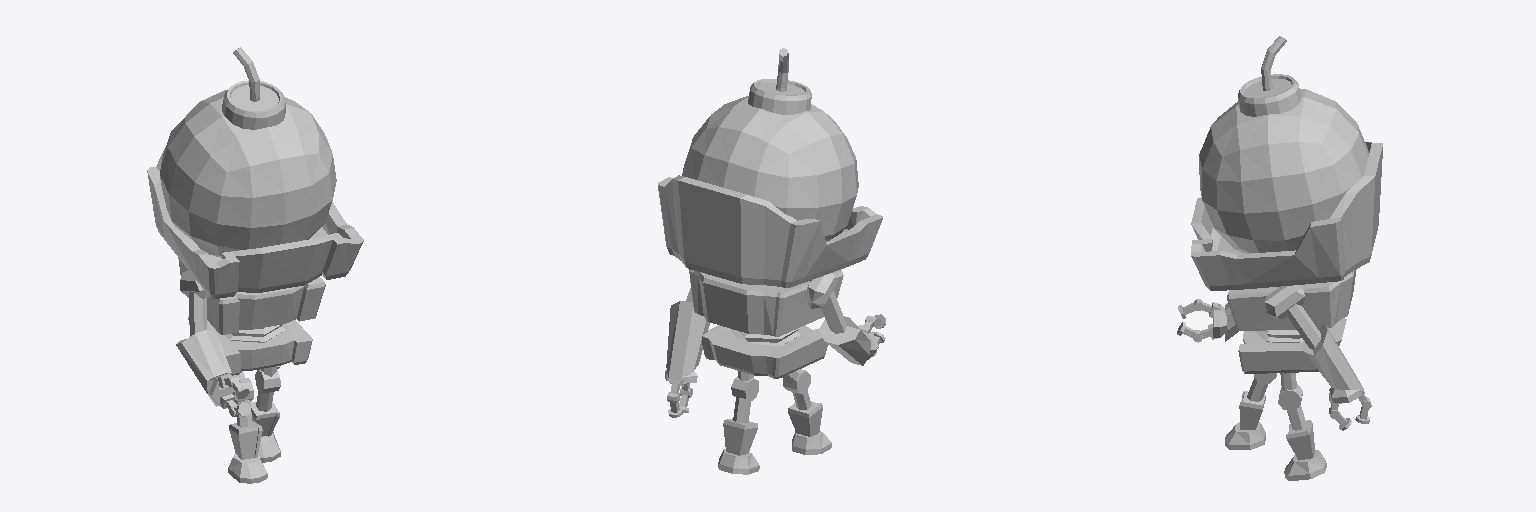
The model's file is walk_1.obj.
3 views of the same model, side by side, from view 1: azimuth 30°, elevation 25°; view 2: azimuth 150°, elevation 25°; view 3: azimuth 270°, elevation 25° (orthographic).
Parts seen in each view (by area): view 1: bomb bombot, bombot body top polySurface20 polySurface18, bombot body top, bombot body bottom, bomb bombot bomb, bombot body bottom polySurface13 leg_left polySurface5 polySurfa, bombot body top arm_right arms polySurface23 polySurface35, bombot body bottom polySurface13 leg_Right polySurface11 polySur, bombot body top arm_right arms polySurface23 polySurface35 polyS, bombot body top arm_right arms polySurface23, bombot body, bomb bombot bomb wick; view 2: bombot body top polySurface20 polySurface18, bomb bombot, bombot body top, bombot body bottom, bombot body top arms polySurface51 arm_left polySurface38 polySu, bombot body bottom polySurface13 leg_Right polySurface11 polySur, bombot body bottom polySurface13 leg_left polySurface5 polySurfa, bomb bombot bomb, bombot body top arm_right arms polySurface23 polySurface35, bombot body top arm_right arms, bombot body top arm_right arms polySurface23, bombot body (+1 smaller); view 3: bomb bombot, bombot body top polySurface20 polySurface18, bombot body top, bombot body top arms polySurface51 arm_left polySurface38 polySu, bombot body bottom, bomb bombot bomb, bombot body bottom polySurface13 leg_Right polySurface11 polySur, bombot body bottom polySurface13 leg_left polySurface5 polySurfa, bombot body top arm_right arms polySurface23 polySurface35 polyS, bombot body top arms polySurface51 arm_left, bombot body top arms polySurface51 arm_left polySurface38, bomb bombot bomb wick.
Boxes of the visible parts, x1=… form: bomb bombot: x1=160, y1=90, x2=336, y2=257; bombot body top polySurface20 polySurface18: x1=147, y1=147, x2=363, y2=298; bombot body top: x1=178, y1=258, x2=325, y2=334; bombot body bottom: x1=188, y1=316, x2=312, y2=374; bomb bombot bomb: x1=222, y1=80, x2=285, y2=129; bombot body bottom polySurface13 leg_left polySurface5 polySurfa: x1=228, y1=400, x2=267, y2=483; bombot body top arm_right arms polySurface23 polySurface35: x1=176, y1=330, x2=231, y2=406; bombot body bottom polySurface13 leg_Right polySurface11 polySur: x1=250, y1=391, x2=280, y2=462; bombot body top arm_right arms polySurface23 polySurface35 polyS: x1=209, y1=373, x2=250, y2=416; bombot body top arm_right arms polySurface23: x1=189, y1=292, x2=206, y2=336; bombot body: x1=225, y1=324, x2=285, y2=342; bomb bombot bomb wick: x1=233, y1=47, x2=259, y2=101; bombot body top polySurface20 polySurface18: x1=658, y1=175, x2=882, y2=287; bomb bombot: x1=682, y1=96, x2=858, y2=241; bombot body top: x1=689, y1=269, x2=843, y2=336; bombot body bottom: x1=702, y1=325, x2=827, y2=378; bombot body top arms polySurface51 arm_left polySurface38 polySu: x1=665, y1=301, x2=709, y2=417; bombot body bottom polySurface13 leg_Right polySurface11 polySur: x1=718, y1=397, x2=759, y2=474; bombot body bottom polySurface13 leg_left polySurface5 polySurfa: x1=788, y1=390, x2=831, y2=454; bomb bombot bomb: x1=748, y1=79, x2=811, y2=114; bombot body top arm_right arms polySurface23 polySurface35: x1=819, y1=316, x2=870, y2=365; bombot body top arm_right arms: x1=805, y1=273, x2=837, y2=308; bombot body top arm_right arms polySurface23: x1=821, y1=291, x2=846, y2=333; bombot body: x1=731, y1=327, x2=800, y2=345; bomb bombot: x1=1199, y1=89, x2=1368, y2=253; bombot body top polySurface20 polySurface18: x1=1191, y1=142, x2=1382, y2=290; bombot body top: x1=1227, y1=269, x2=1356, y2=330; bombot body top arms polySurface51 arm_left polySurface38 polySu: x1=1302, y1=324, x2=1371, y2=430; bombot body bottom: x1=1238, y1=318, x2=1346, y2=373; bomb bombot bomb: x1=1238, y1=74, x2=1301, y2=116; bombot body bottom polySurface13 leg_Right polySurface11 polySur: x1=1284, y1=405, x2=1326, y2=480; bombot body bottom polySurface13 leg_left polySurface5 polySurfa: x1=1225, y1=378, x2=1267, y2=449; bombot body top arm_right arms polySurface23 polySurface35 polyS: x1=1177, y1=299, x2=1226, y2=342; bombot body top arms polySurface51 arm_left: x1=1265, y1=285, x2=1304, y2=318; bombot body top arms polySurface51 arm_left polySurface38: x1=1287, y1=304, x2=1320, y2=348; bomb bombot bomb wick: x1=1261, y1=36, x2=1286, y2=90.
Size of the model in its own units: 4.22 by 10.22 by 4.52.